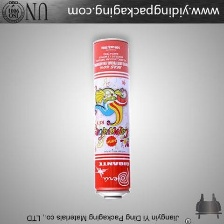aerosol_cans: (90, 34, 134, 203)
